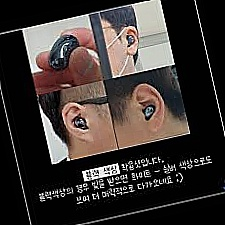earphone: (130, 79, 170, 133), (60, 99, 96, 146), (120, 24, 143, 57)
